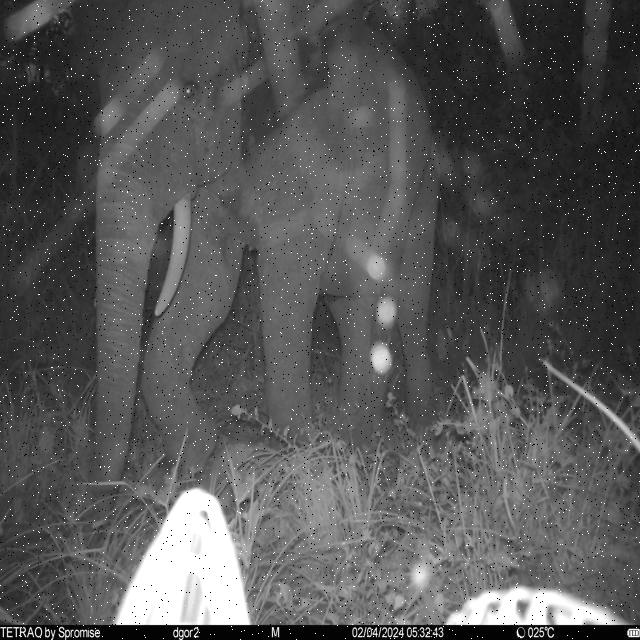ear: (239, 0, 366, 166)
elephant: (78, 0, 444, 518)
tusk: (154, 190, 194, 320)
